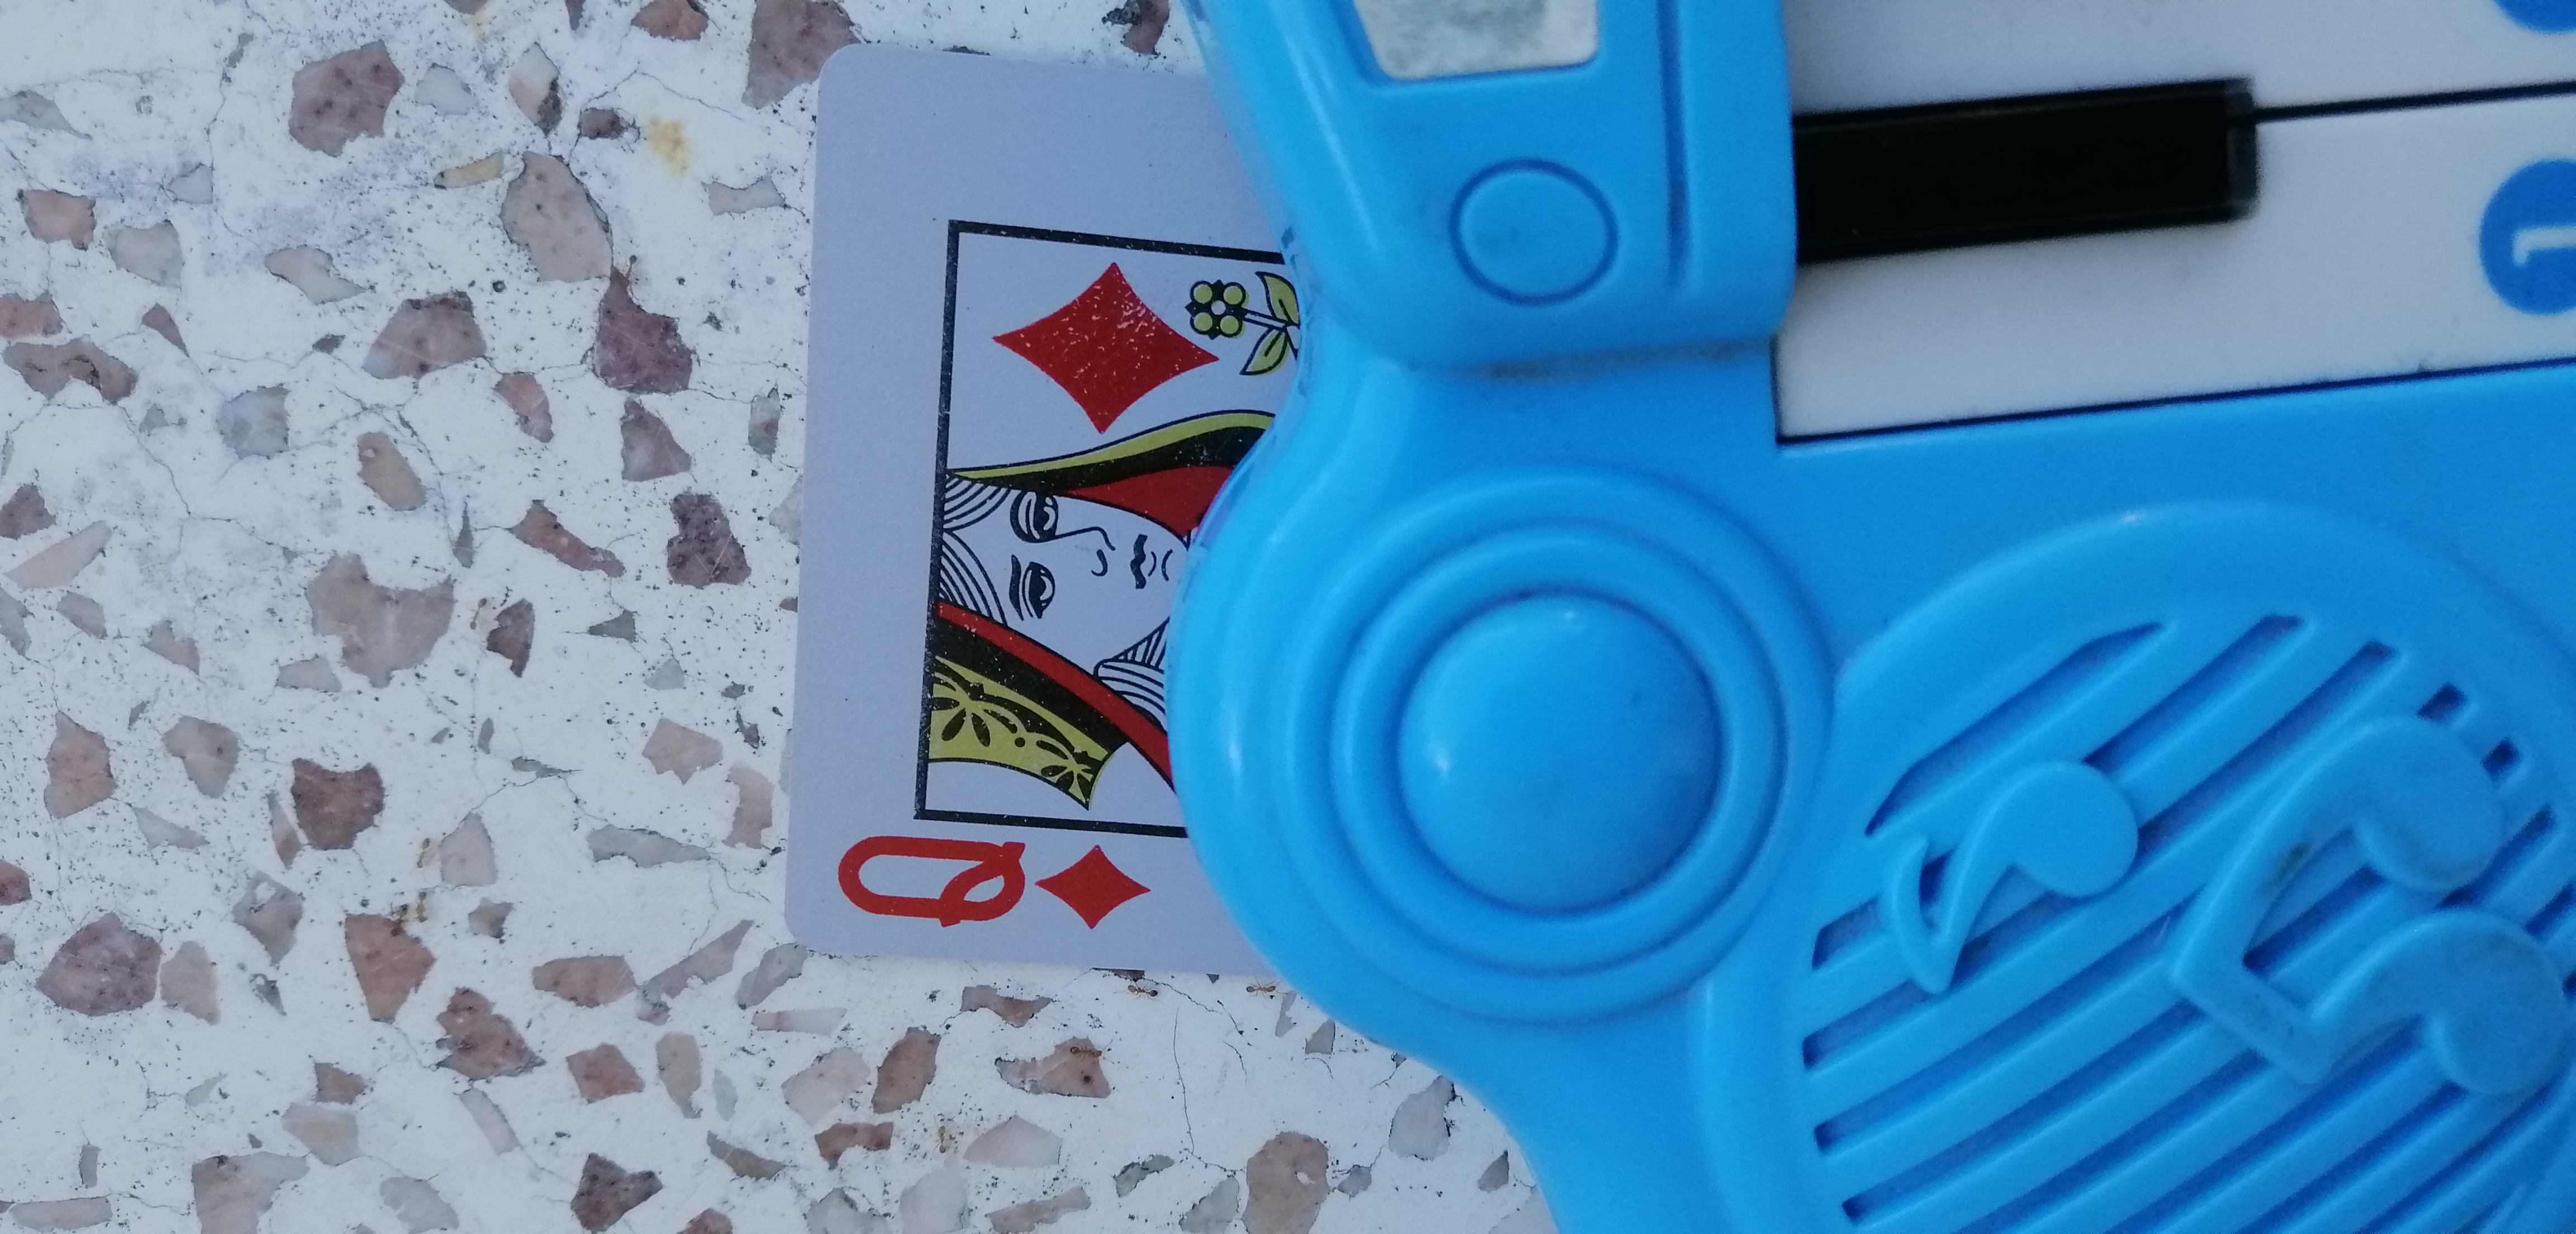queen: (782, 39, 1346, 1015)
